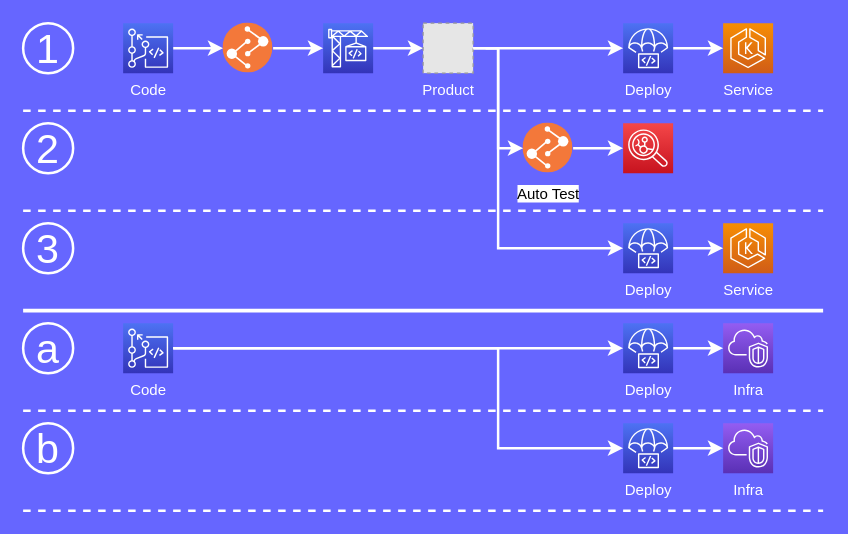
Some shapes in this 848 by 534 pixel diagram are drawn without their labels. Grey dashed boxes stand in for pictures. The shapes that lost their labels are listed below. From the top down, each one's centre as x and y in pixels, then its label:
At (x=247, y=47): "Unit Test".
At (x=347, y=47): "Build".
At (x=647, y=147): "Scanner".
